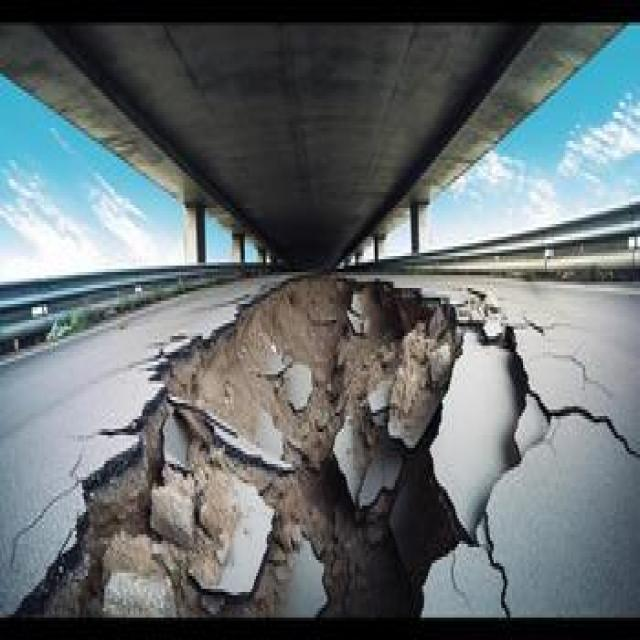road collapse: (30, 205, 640, 640)
